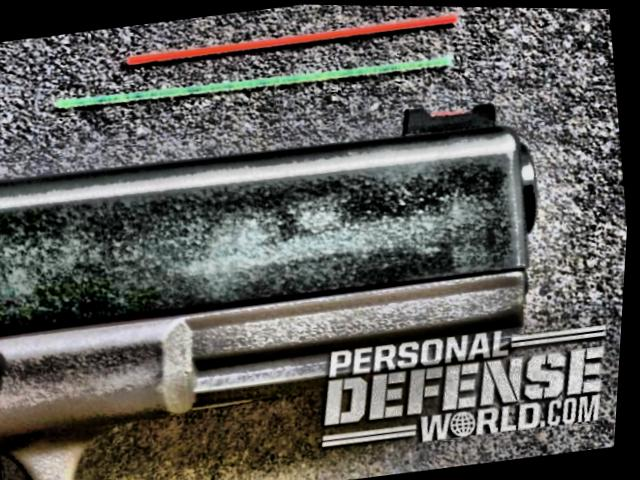pistol: (0, 66, 587, 480)
